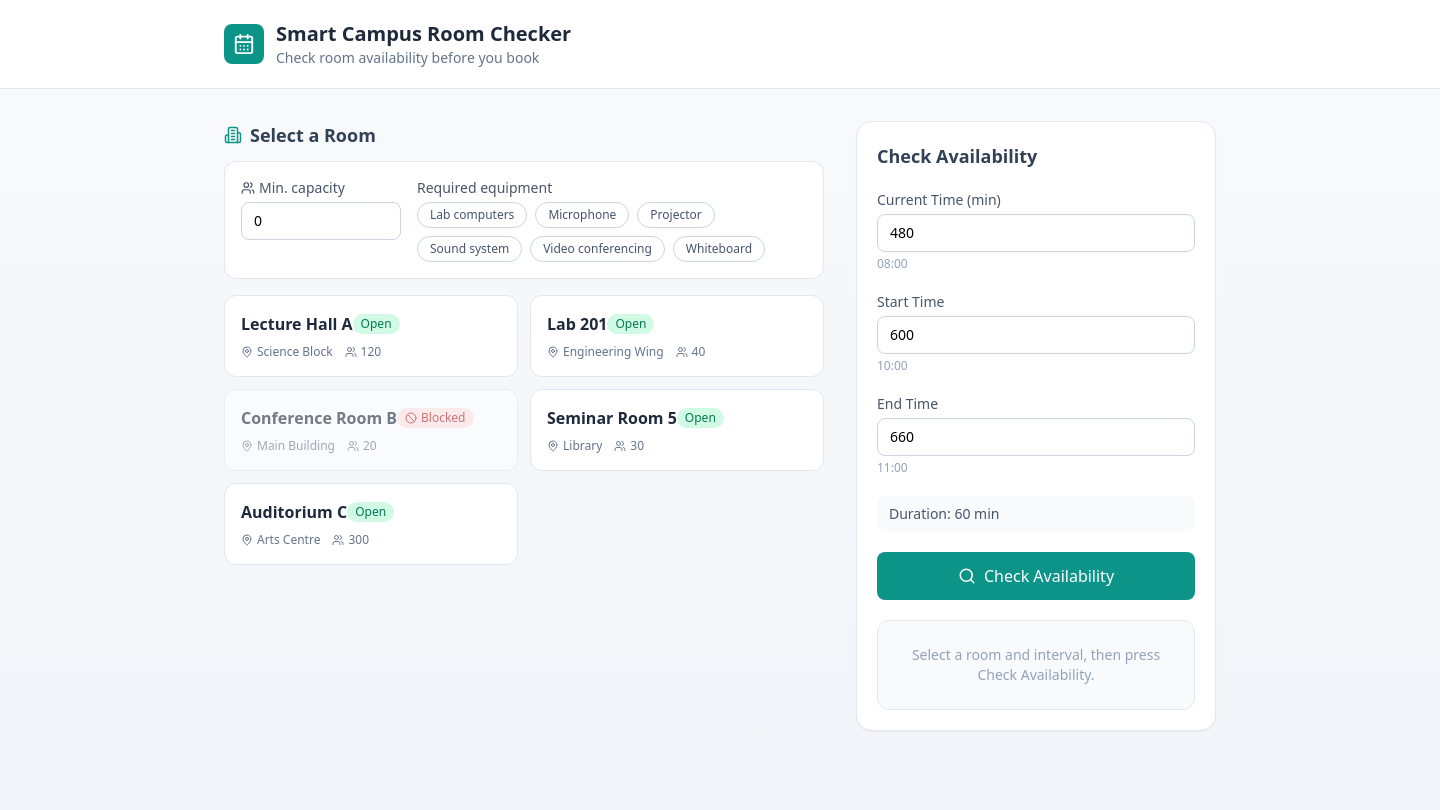
Test: Risk regression tests (R-01, R-02) › R-02: associates TimeSelector labels with inputs so Start Time edits trigger the invalid-interval rule
Expected: the number field labelled "Current Time (min)" is shown, [877,214,1195,252]
Expected: the number field labelled "End Time" is shown, [877,418,1195,456]
Click the button "Lecture Hall A Open Science Block 120": (371,336) [224,295,518,377]
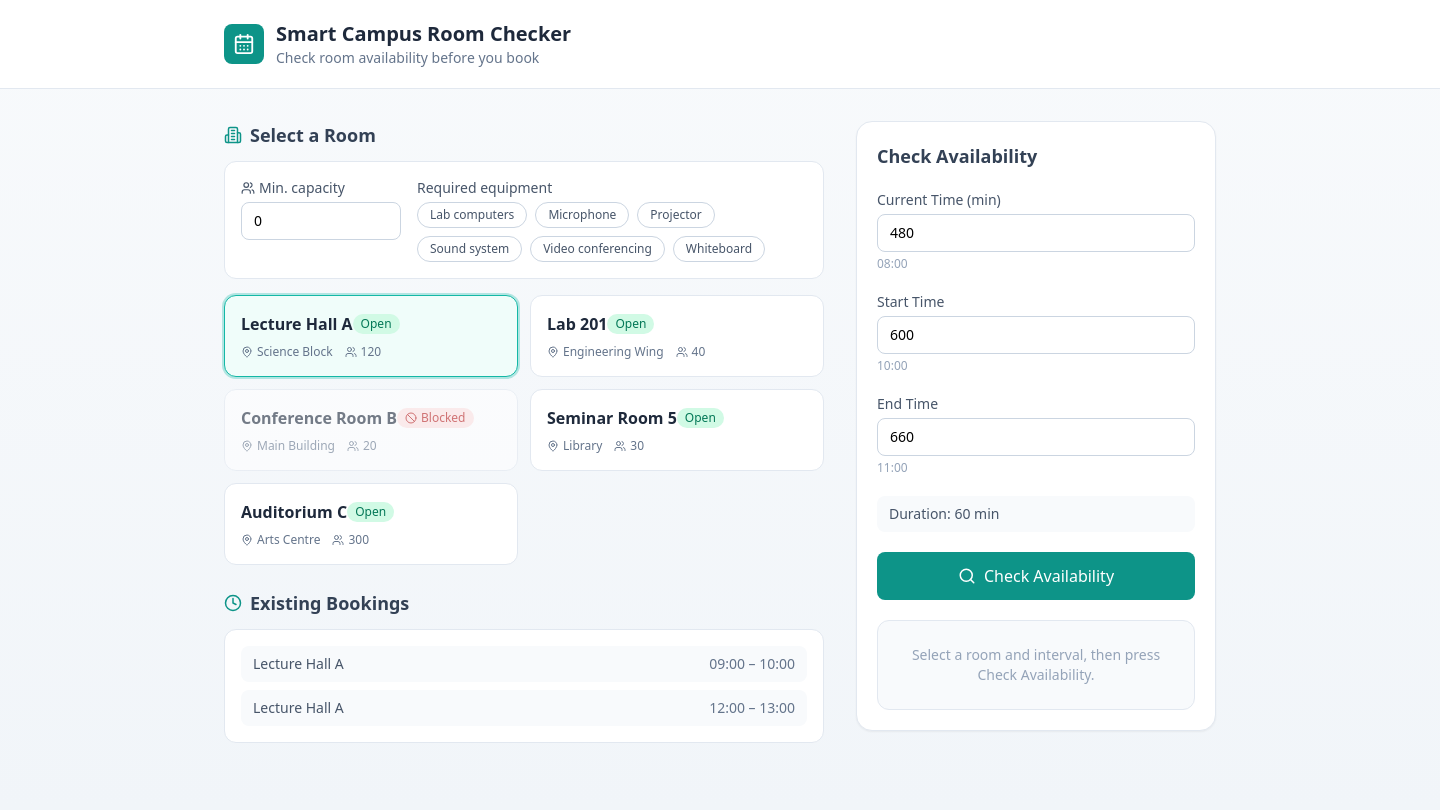
Replace the text in the number field labelled "Start Time" with "1500": (1036,335) [877,316,1195,354]
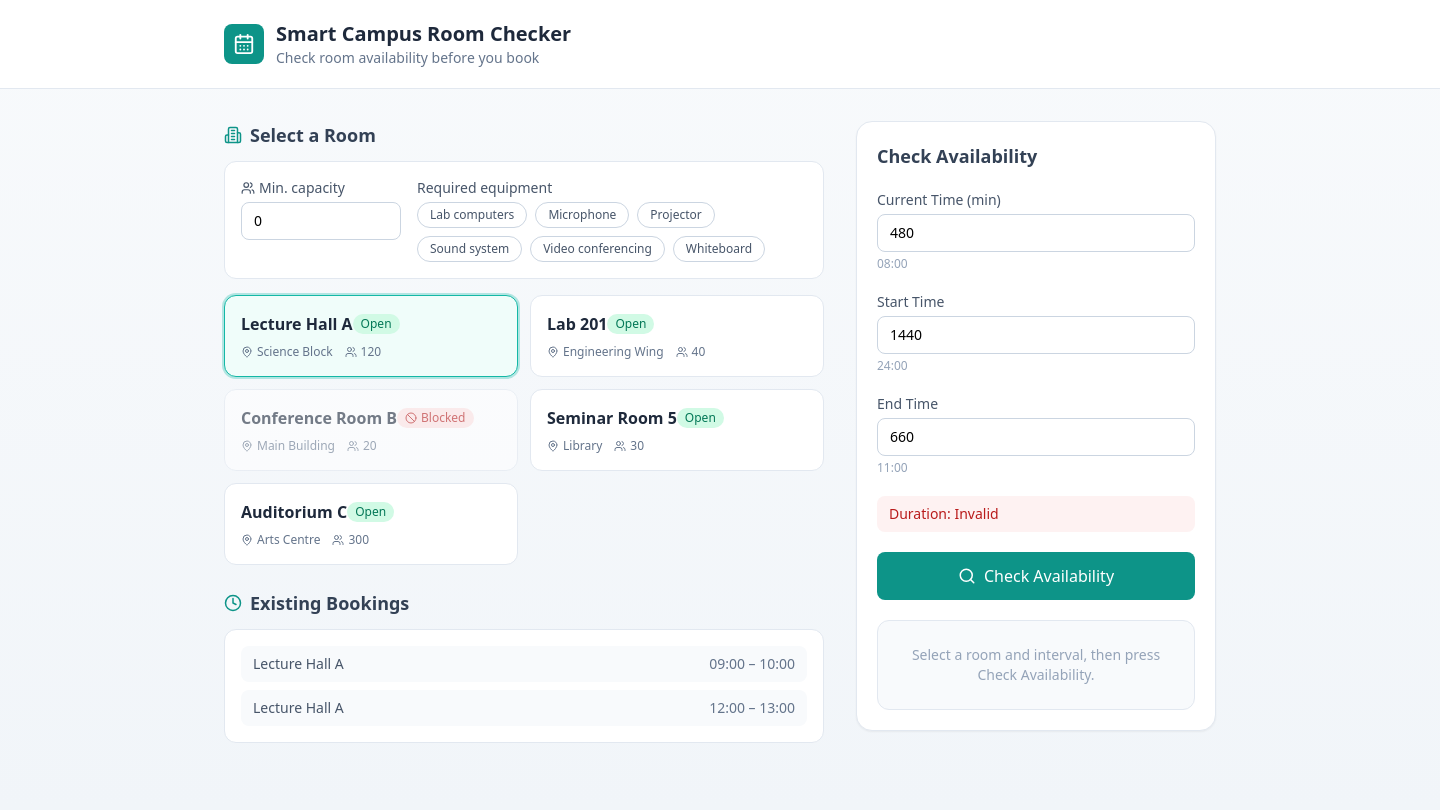
Click the button "Check Availability": (1036,576) [877,552,1195,600]
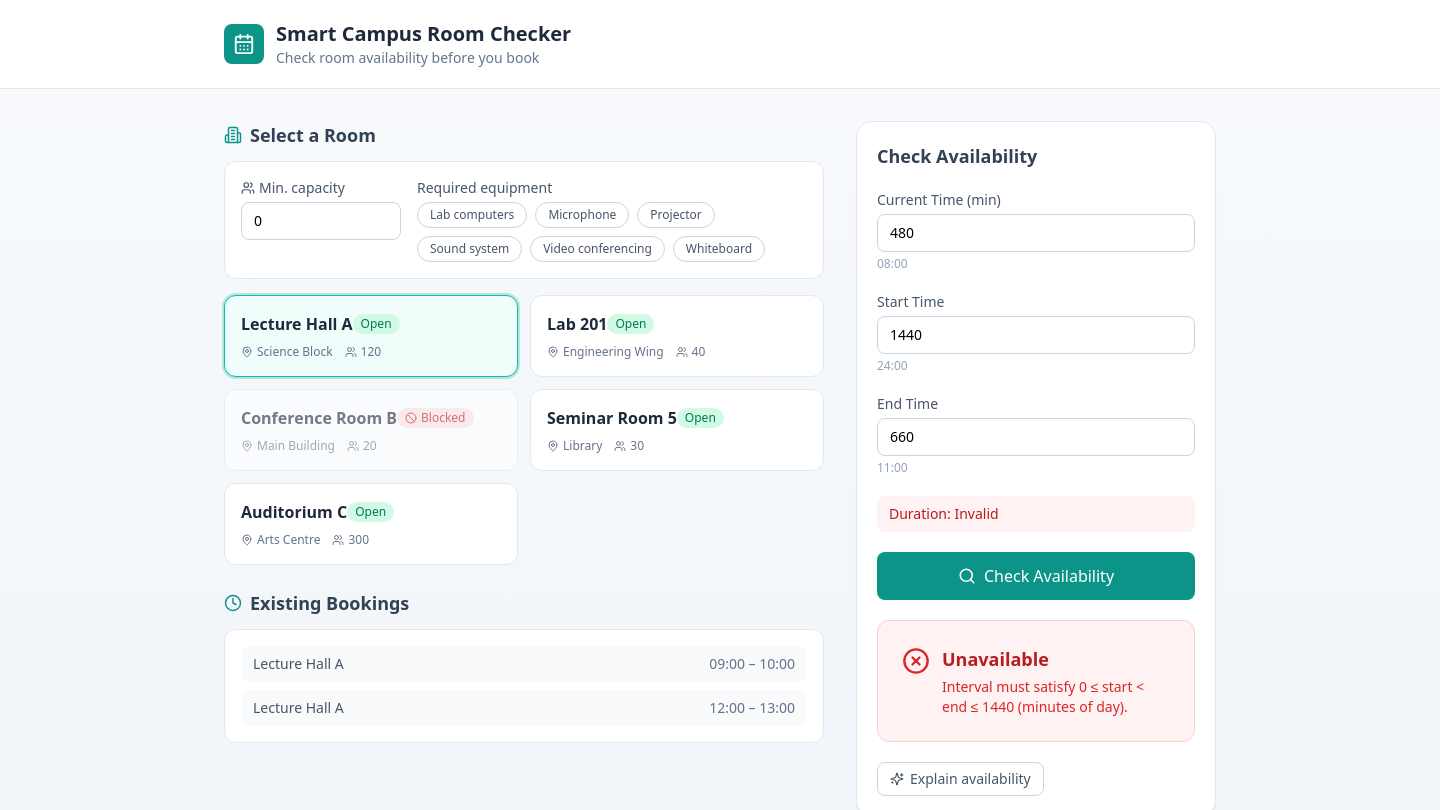
Now the text "Unavailable" is shown, box [942,647,1049,671]
Now the text "Interval must satisfy" is shown, box [942,677,1144,716]
Click the button "Explain availability": (960,779) [877,762,1044,796]
(page scrolled)
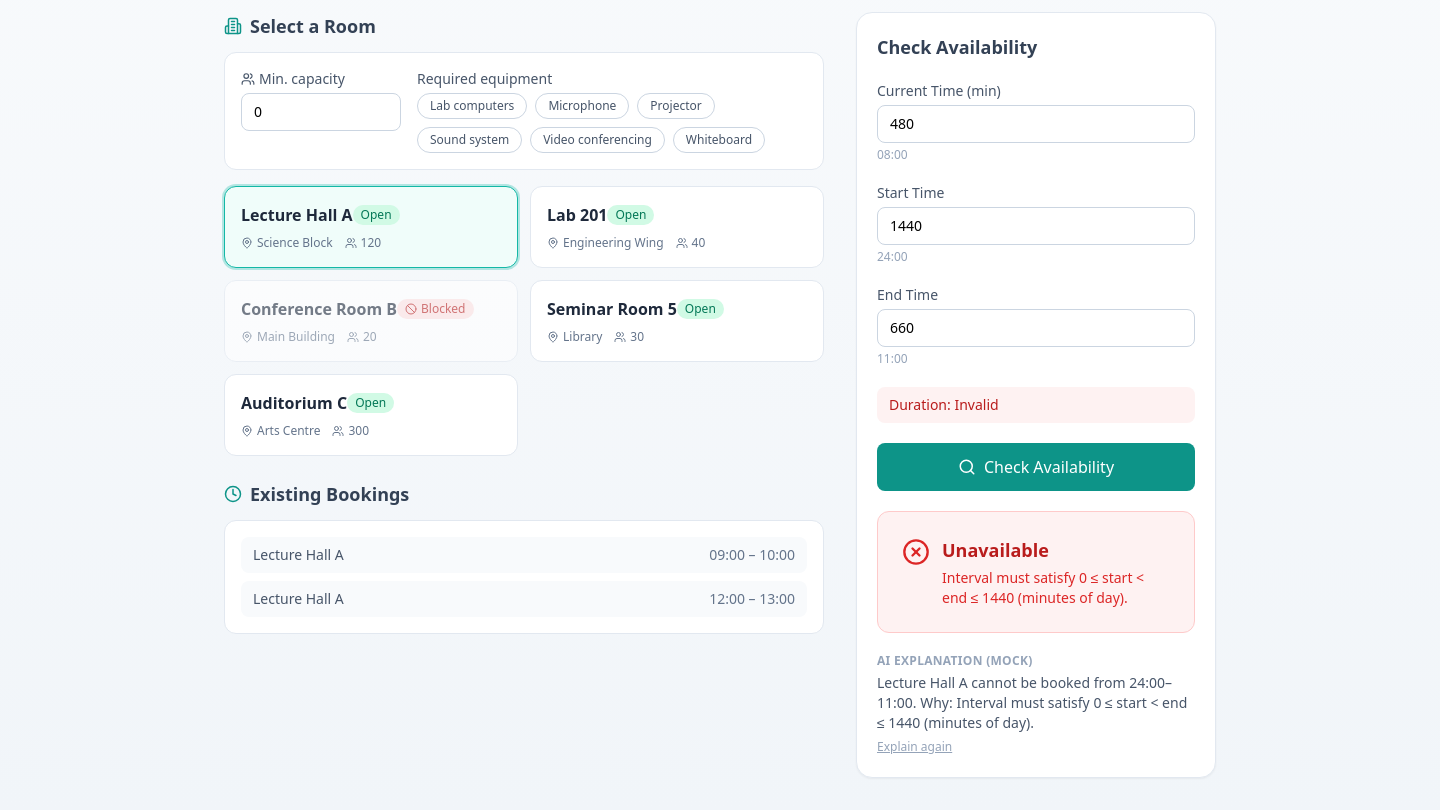
Now the text "AI explanation (mock)" is shown, box [877,652,1032,669]
Now the text "Lecture Hall A cannot be booked" shows "Interval must satisfy", box [877,673,1187,732]
